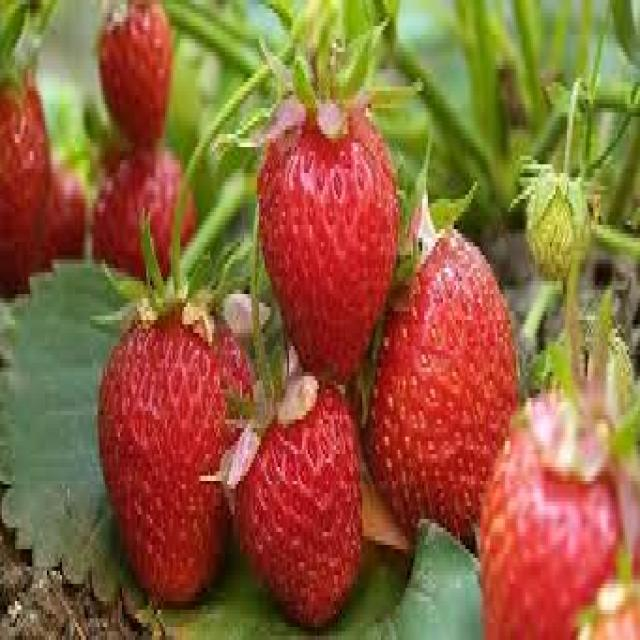strawberry: (250, 44, 398, 382), (99, 250, 241, 601), (371, 202, 510, 523), (482, 402, 640, 640), (228, 377, 368, 635)
